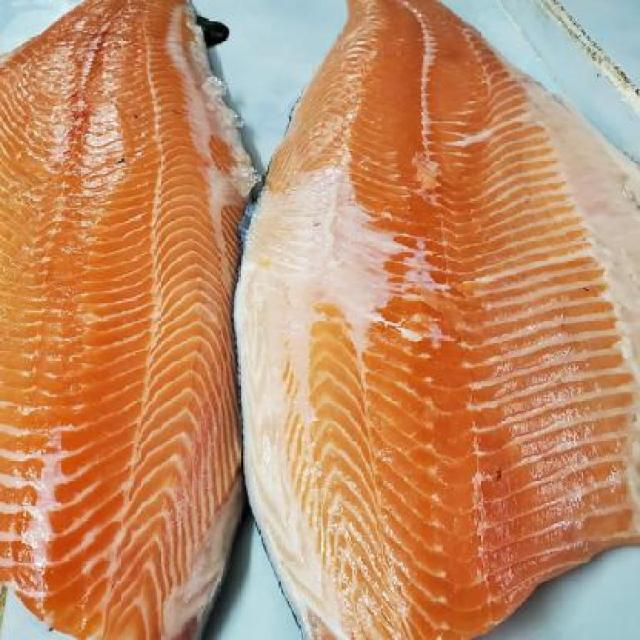salmon: (246, 3, 639, 639), (0, 1, 245, 640)
